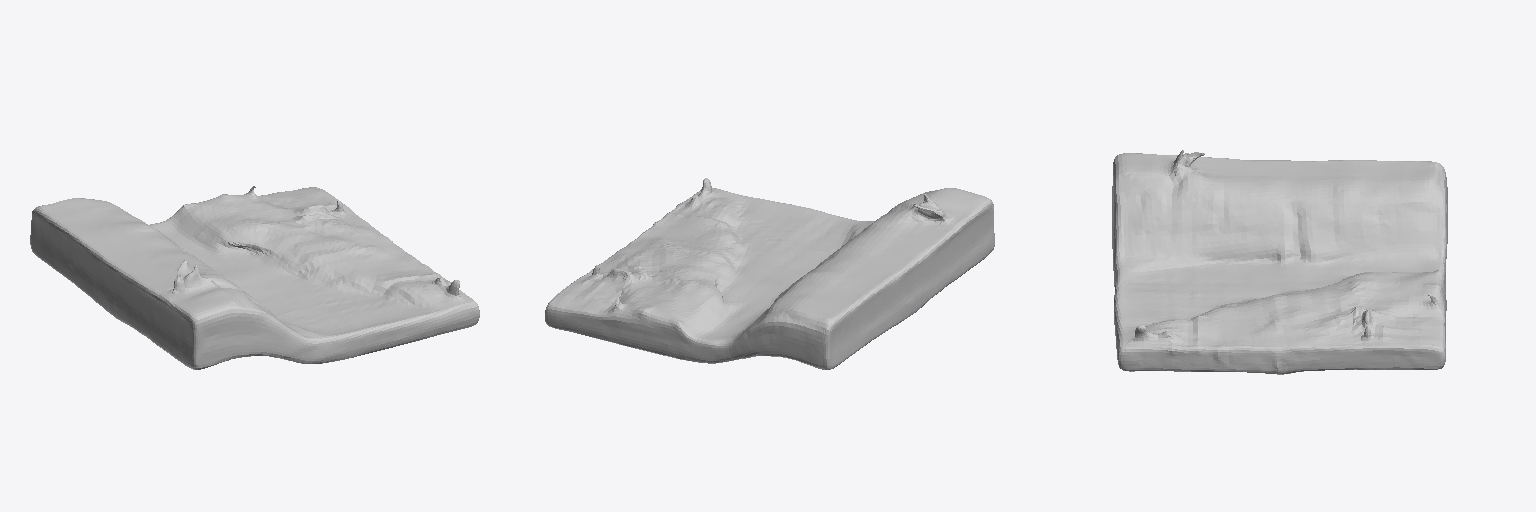
Rendered from 9f79d11862c6_A_swampy_water_stre.obj.
3 views of the same model, side by side, from view 1: azimuth 30°, elevation 25°; view 2: azimuth 150°, elevation 25°; view 3: azimuth 270°, elevation 25° (orthographic).
Parts seen in each view (by area): view 1: mesh; view 2: mesh; view 3: mesh.
Part boxes in pixels (left/top/right/bottom): mesh: left=30, top=186, right=479, bottom=369; mesh: left=545, top=178, right=994, bottom=369; mesh: left=1112, top=150, right=1447, bottom=374.
Size of the model in its own units: 0.9987 by 0.348 by 0.9979.